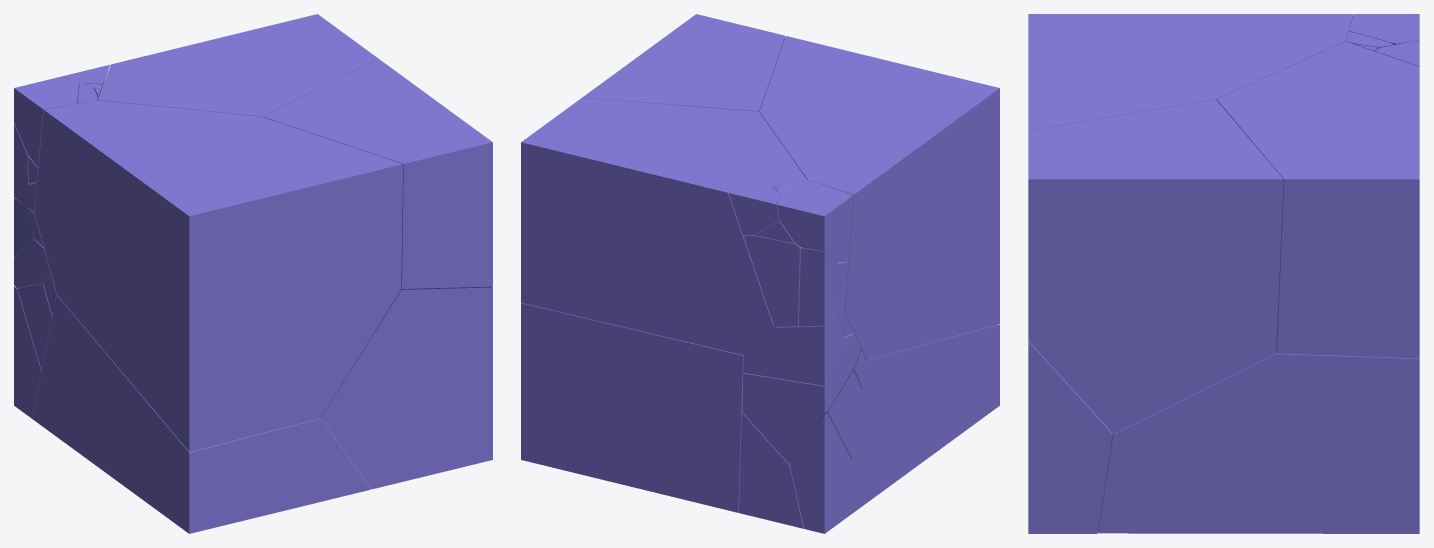
File: fractured_cube.fbx
3 views of the same model, side by side, from view 1: azimuth 30°, elevation 25°; view 2: azimuth 150°, elevation 25°; view 3: azimuth 270°, elevation 25° (orthographic). The views are drawn at different scales.
Visible parts, largest first — view 1: small box_cell.001, small box_cell, small box_cell.004, small box_cell.005, small box_cell.007, small box_cell.003_cell.001, small box_cell.002_cell.003, small box_cell.002_cell.005, small box_cell.002_cell.004, small box_cell.003_cell.002, small box_cell.002_cell.006; view 2: small box_cell.007, small box_cell.001, small box_cell.006, small box_cell, small box_cell.005, small box_cell.002_cell.004, small box_cell.002_cell.003, small box_cell.002_cell.006, small box_cell.002_cell.001, small box_cell.003_cell.001, small box_cell.003_cell.004, small box_cell.003_cell.002 (+2 smaller); view 3: small box_cell.005, small box_cell.006, small box_cell.007, small box_cell.001, small box_cell.004, small box_cell.003_cell.001, small box_cell.003_cell.006.
Boxes of the visible parts, x1,y1,x2,y2 form: small box_cell.001: [34, 100, 402, 451]; small box_cell: [32, 295, 371, 533]; small box_cell.004: [321, 287, 492, 489]; small box_cell.005: [262, 58, 492, 290]; small box_cell.007: [98, 14, 377, 116]; small box_cell.003_cell.001: [14, 76, 78, 167]; small box_cell.002_cell.003: [14, 286, 41, 418]; small box_cell.002_cell.005: [17, 283, 52, 370]; small box_cell.002_cell.004: [14, 239, 51, 289]; small box_cell.003_cell.002: [14, 123, 28, 200]; small box_cell.002_cell.006: [14, 198, 33, 257]; small box_cell.007: [521, 98, 806, 354]; small box_cell.001: [759, 36, 999, 359]; small box_cell.006: [521, 303, 743, 512]; small box_cell: [842, 324, 999, 520]; small box_cell.005: [582, 14, 785, 111]; small box_cell.002_cell.004: [742, 333, 861, 463]; small box_cell.002_cell.003: [790, 413, 851, 533]; small box_cell.002_cell.006: [743, 316, 844, 385]; small box_cell.002_cell.001: [739, 412, 803, 528]; small box_cell.003_cell.001: [777, 185, 853, 262]; small box_cell.003_cell.004: [743, 235, 848, 326]; small box_cell.003_cell.002: [798, 248, 838, 326]; small box_cell.005: [1028, 99, 1283, 433]; small box_cell.006: [1098, 353, 1419, 533]; small box_cell.007: [1216, 41, 1419, 358]; small box_cell.001: [1028, 14, 1353, 130]; small box_cell.004: [1028, 341, 1112, 533]; small box_cell.003_cell.001: [1349, 14, 1419, 44]; small box_cell.003_cell.006: [1379, 40, 1419, 66].
Size of the model in its own units: 105 by 105 by 105.
